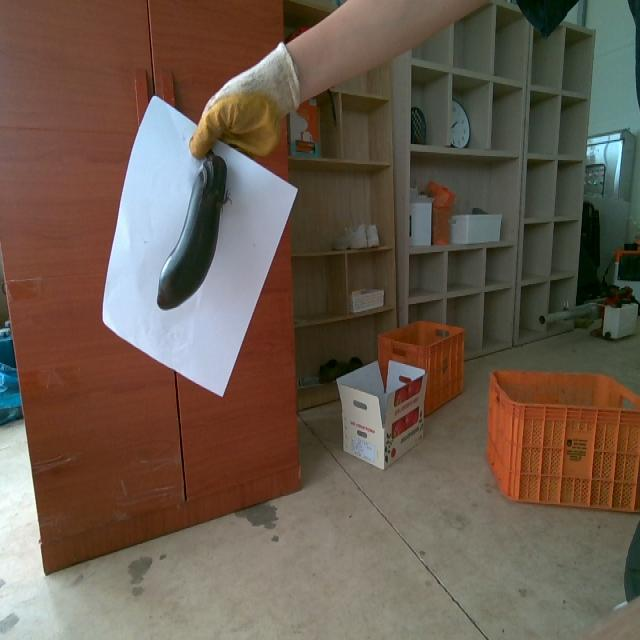Egg plant: (157, 152, 226, 308)
